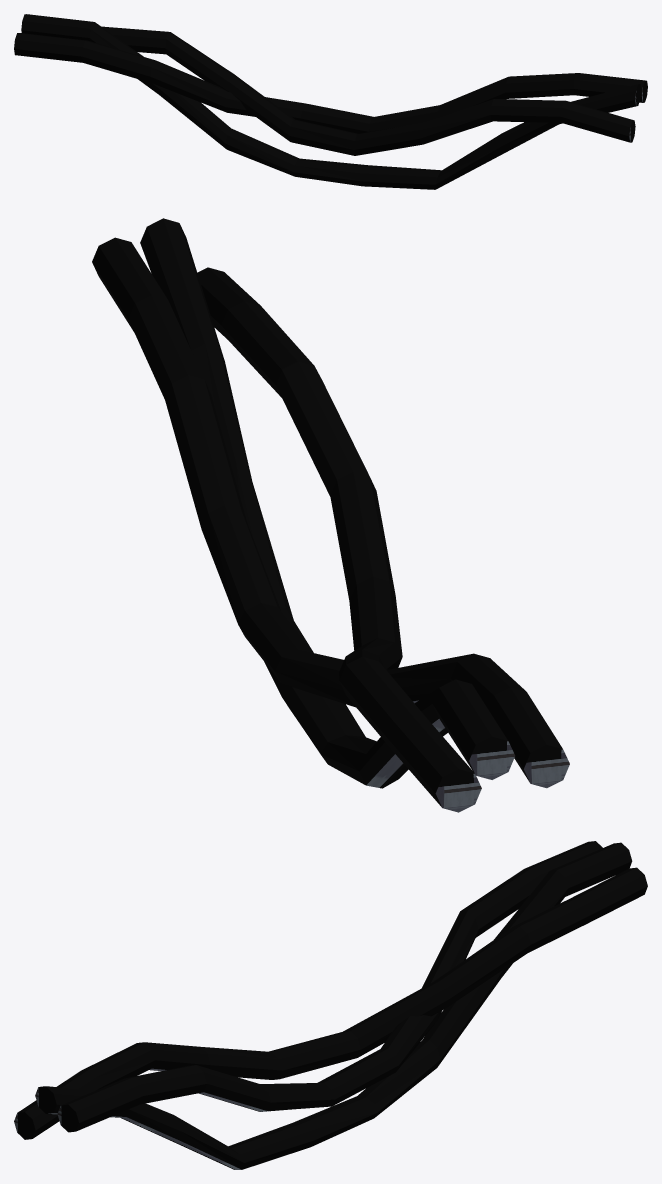
The model's file is cablesTest.fbx.
3 renders of one model, top to bottom at view 1: azimuth 30°, elevation 25°; view 2: azimuth 150°, elevation 25°; view 3: azimuth 270°, elevation 25°, orthographic. The views are drawn at different scales.
Parts seen in each view (by area): view 1: cablesTest; view 2: cablesTest; view 3: cablesTest.
Boxes of the visible parts, box(x1,y1,x2,y2) form: cablesTest: box(14, 14, 647, 189); cablesTest: box(92, 218, 569, 812); cablesTest: box(14, 841, 647, 1169).
Size of the model in its own units: 336 by 97.31 by 330.
